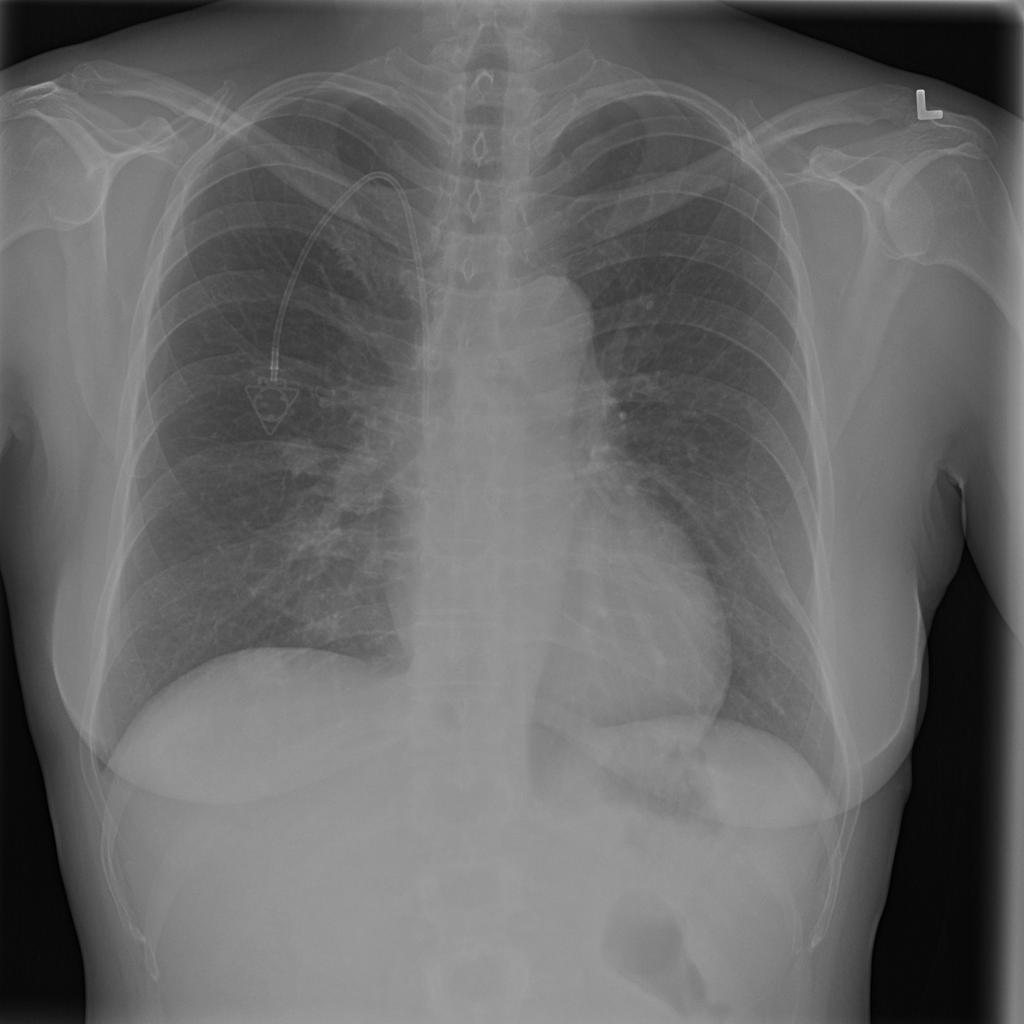nodule: (323, 441, 397, 519)
